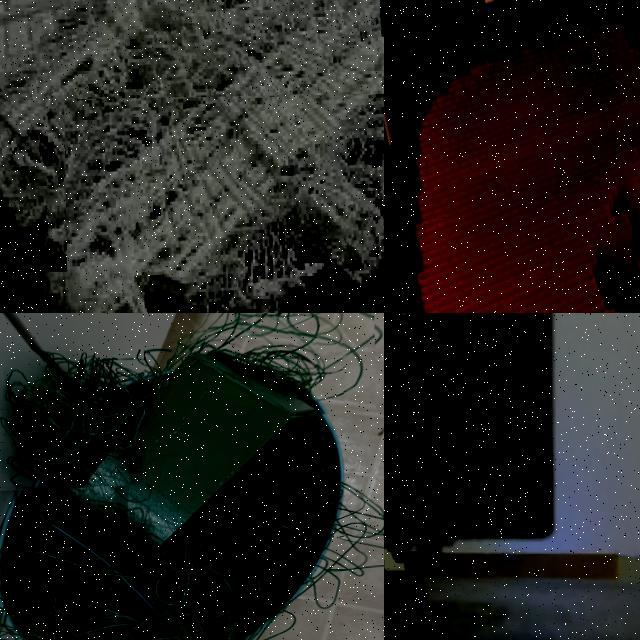spaghetti: (0, 411, 343, 640), (109, 101, 384, 313), (0, 349, 145, 492), (192, 313, 376, 421), (310, 485, 384, 610)
